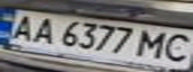3: (75, 20, 100, 52)
6: (54, 18, 81, 48)
7: (112, 25, 139, 56), (93, 21, 118, 54)
A: (3, 12, 42, 42), (24, 16, 60, 45)
C: (157, 31, 193, 64)
M: (136, 28, 175, 60)
